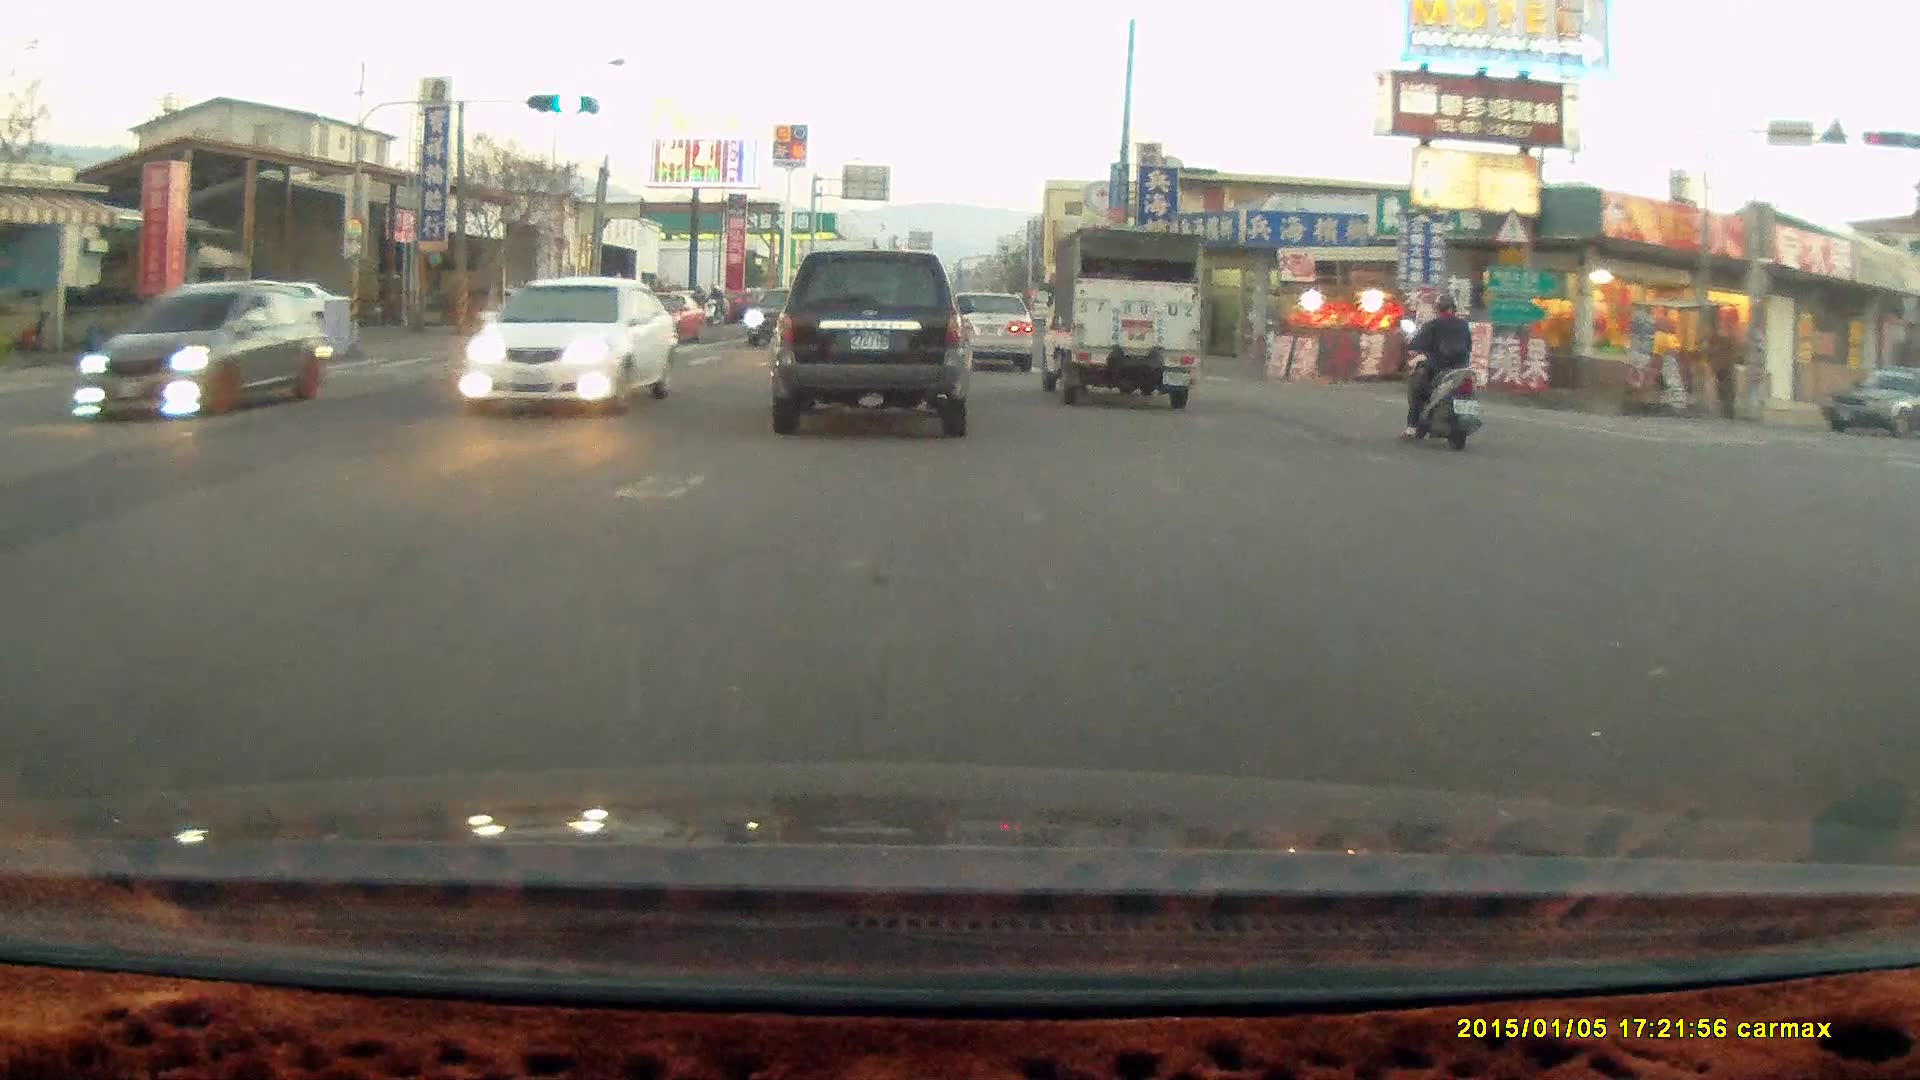rider: (1396, 287, 1482, 446), (701, 282, 726, 326)
vehicle: (768, 247, 970, 436), (71, 277, 327, 421), (1038, 223, 1205, 405), (464, 275, 679, 410), (481, 286, 613, 377), (937, 288, 1034, 372), (1820, 368, 1920, 441), (213, 281, 353, 332), (947, 293, 1036, 370), (609, 291, 707, 345)
